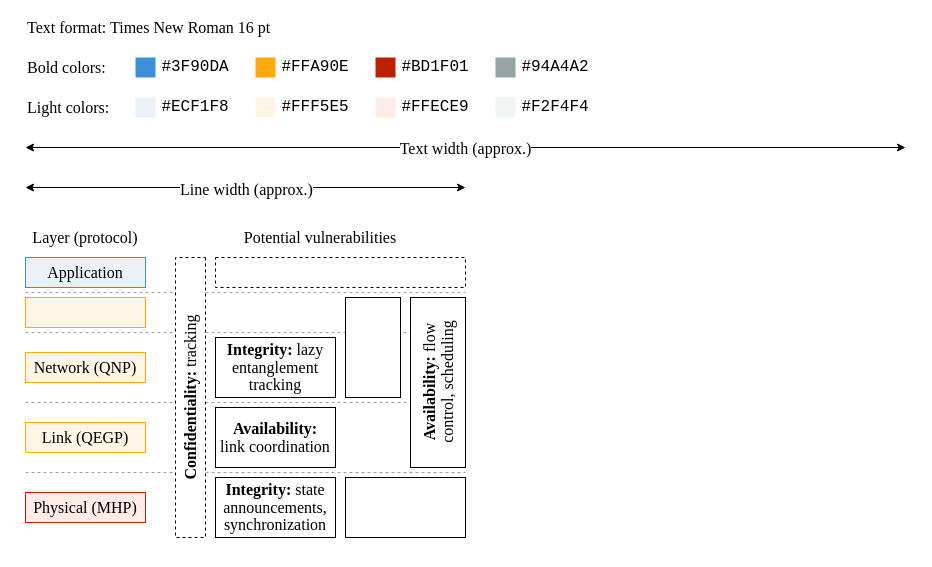
The diagram is 932 pixels wide and 567 high, and some of its shapes have lost their labels. The centre of each missing label's shape, as x and y in pixels:
"Availability: announce failed swaps, sync, etc." belongs at (x=405, y=507).
"Availability: routing" belongs at (x=372, y=347).
"CIA: application-specific" belongs at (x=340, y=272).
"Transport" belongs at (x=85, y=312).
